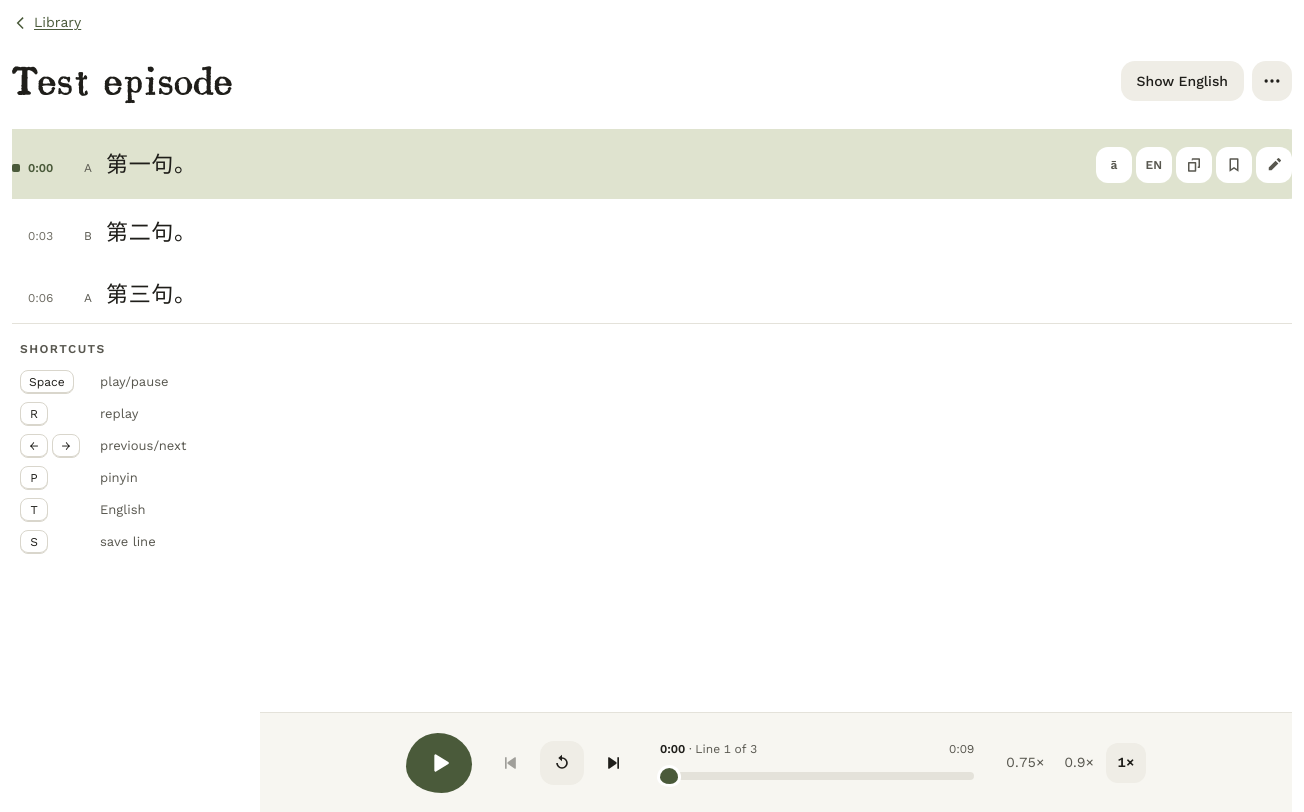
Test: EpisodePage — corrections › keeps the editor open with an error for empty text
The width and height of the screenshot is (1304, 812).
Click the button named "Edit line" at (1274, 165), box [1256, 147, 1292, 183]
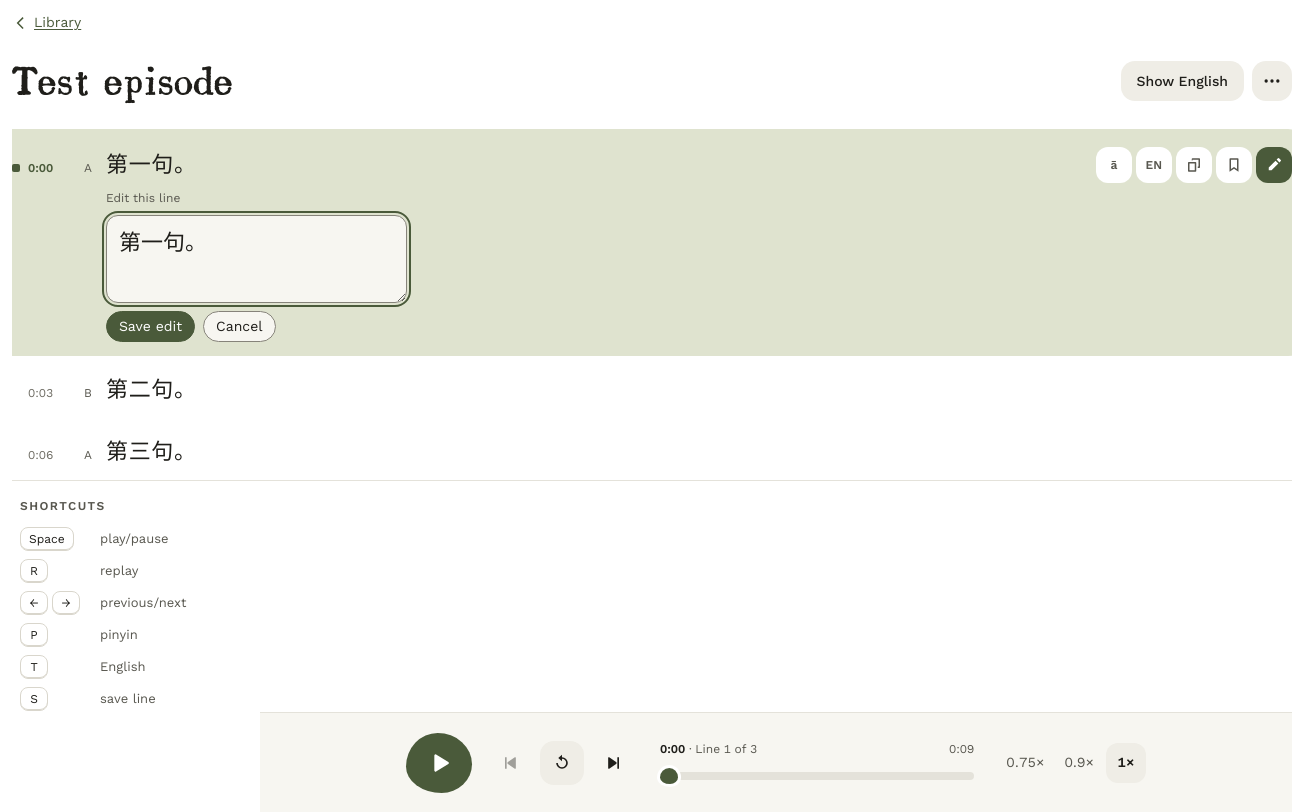
Clear the text box labelled "Edit this line" at (256, 259), box [106, 215, 407, 304]
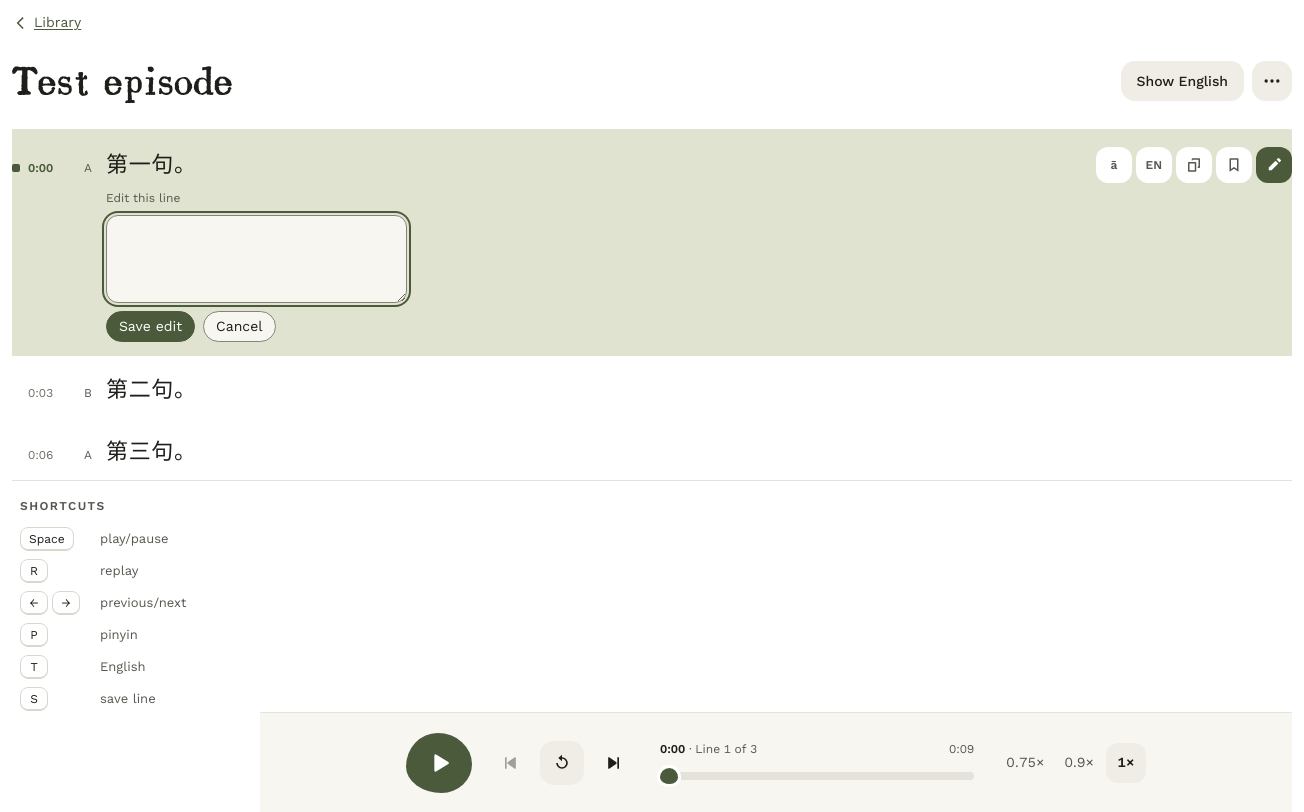
Click the button "Save edit" at (151, 327), box [106, 312, 195, 342]
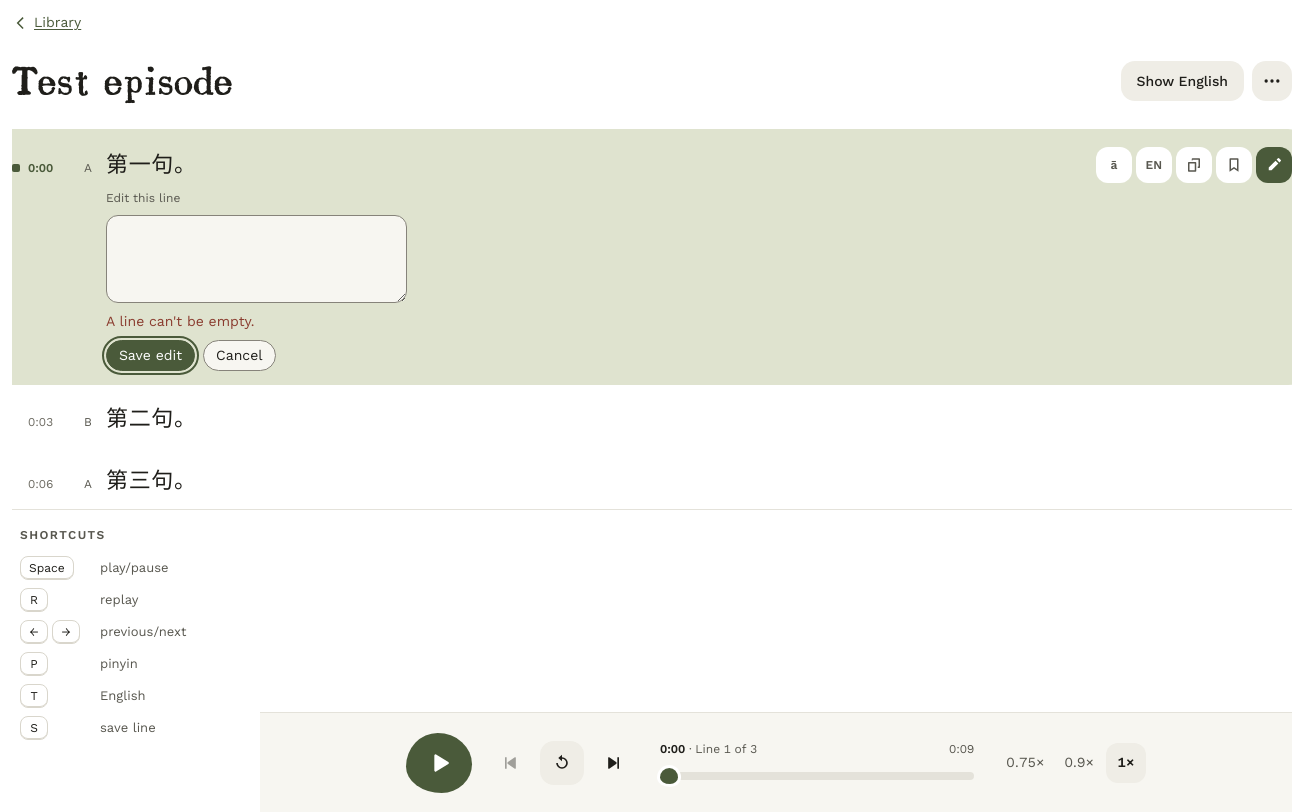
Expected: the message reads "A line can't be empty.", [106, 314, 254, 330]
